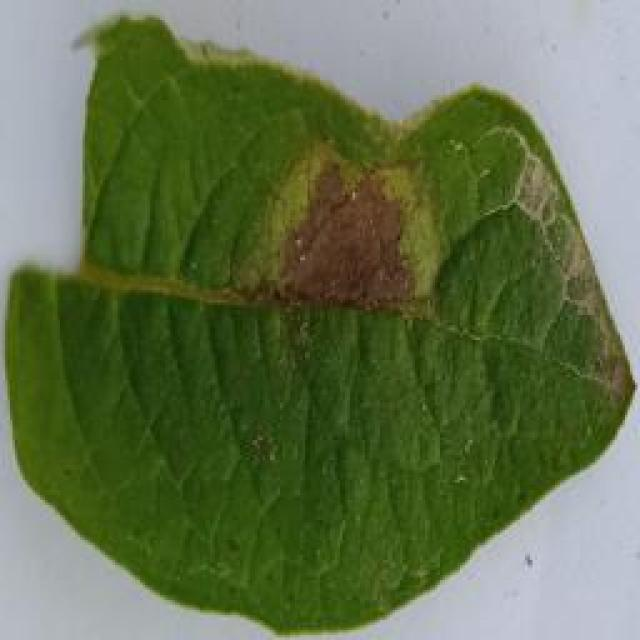Potato_Late_Blight: (12, 15, 640, 623)
